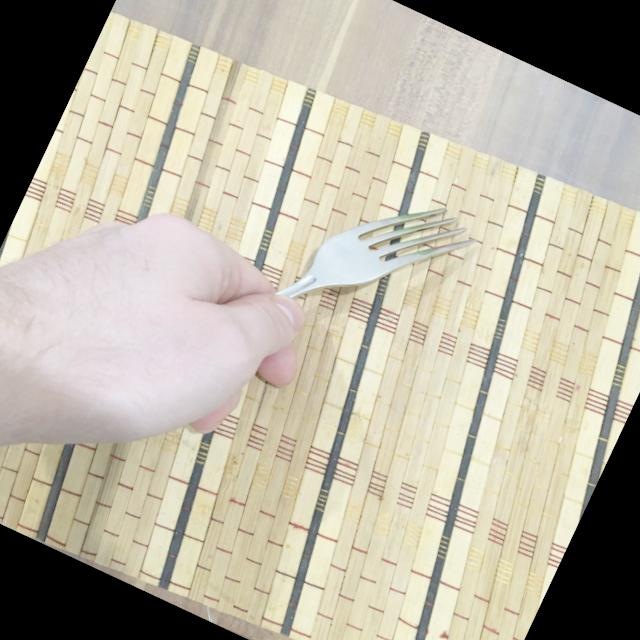fork: (172, 124, 486, 430)
